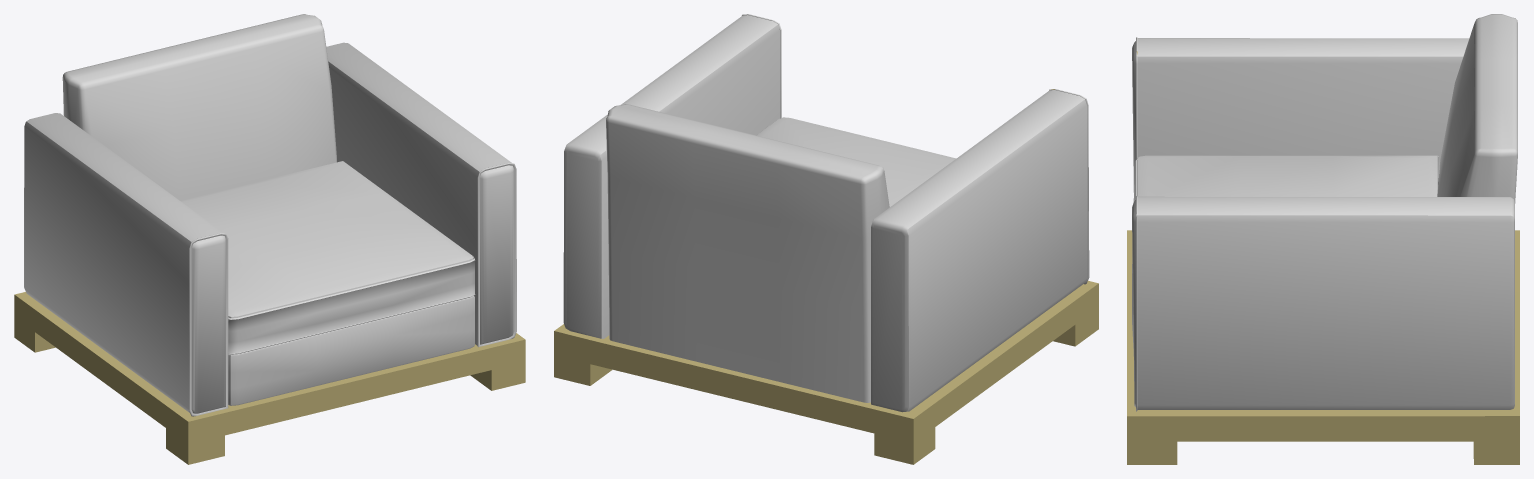
File: MZBSF01.FBX
3 views of the same model, side by side, from view 1: azimuth 30°, elevation 25°; view 2: azimuth 150°, elevation 25°; view 3: azimuth 270°, elevation 25° (orthographic). The views are drawn at different scales.
Parts seen in each view (by area): view 1: MZBSF01; view 2: MZBSF01; view 3: MZBSF01.
Boxes of the visible parts, x1,y1,x2,y2 form: MZBSF01: [14, 14, 525, 464]; MZBSF01: [554, 14, 1098, 464]; MZBSF01: [1127, 14, 1519, 464].
Bounding box in the file's own units: 103 × 92 × 75.
